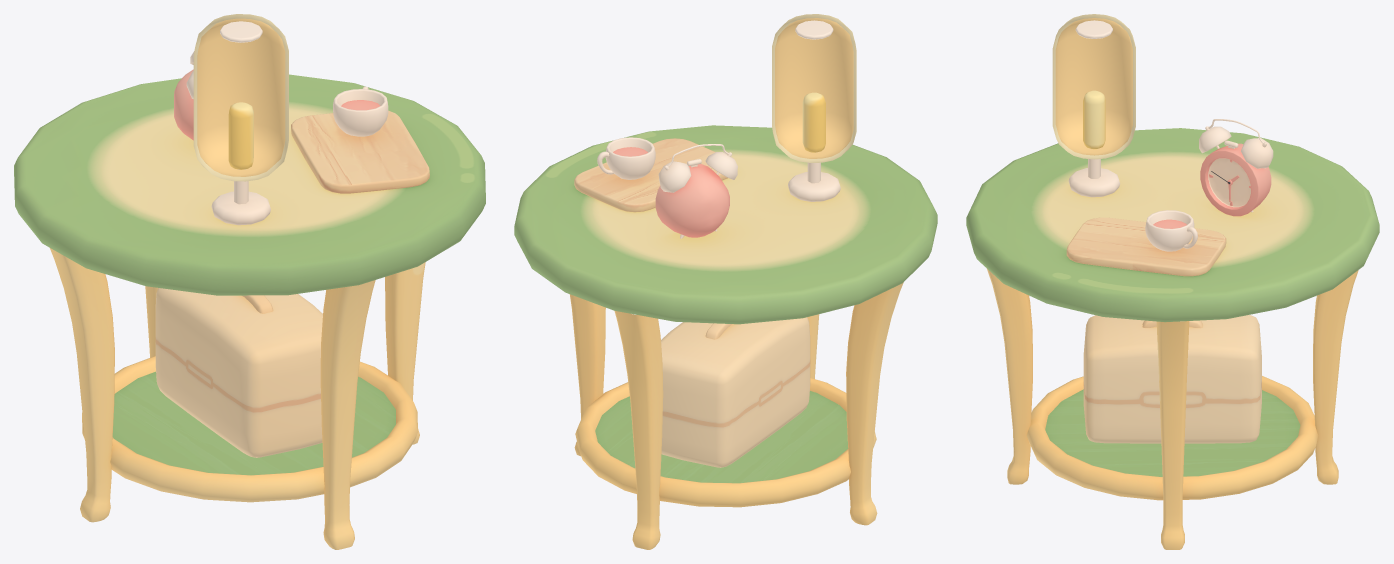
File: cute_stylized_bedside_table_-_low_poly.glb
The picture shows the model from 3 angles, left to right: view 1: azimuth 30°, elevation 25°; view 2: azimuth 150°, elevation 25°; view 3: azimuth 270°, elevation 25°; orthographic projection. The views are drawn at different scales.
Visible parts, largest first — view 1: Circle, Cube.003, Circle.002, Circle_Curve, Plane, Cube, Cube.001, Plane.003, Cylinder, Plane.002, Plane.004, Plane.001; view 2: Circle, Cube.003, Circle.002, Circle_Curve, Plane, Cube, Plane.004, Cube.001, Plane.003, Cylinder, Plane.005, Plane.002 (+1 smaller); view 3: Circle, Cube.003, Circle_Curve, Circle.002, Plane, Cube, Plane.004, Cube.001, Plane.003, Cylinder, Plane.005, Plane.002 (+1 smaller).
Boxes of the visible parts, left/top/right/bottom form: Circle: left=14, top=74, right=485, bottom=295; Cube.003: left=155, top=288, right=322, bottom=457; Circle.002: left=50, top=248, right=425, bottom=549; Circle_Curve: left=82, top=356, right=417, bottom=502; Plane: left=197, top=18, right=285, bottom=176; Cube: left=291, top=110, right=429, bottom=193; Cube.001: left=333, top=86, right=388, bottom=136; Plane.003: left=193, top=14, right=288, bottom=181; Cylinder: left=211, top=169, right=270, bottom=225; Plane.002: left=228, top=102, right=253, bottom=169; Plane.004: left=174, top=69, right=193, bottom=140; Plane.001: left=220, top=21, right=262, bottom=42; Circle: left=514, top=125, right=937, bottom=324; Cube.003: left=661, top=317, right=810, bottom=467; Circle.002: left=569, top=282, right=903, bottom=549; Circle_Curve: left=575, top=378, right=876, bottom=507; Plane: left=775, top=18, right=853, bottom=158; Cube: left=574, top=138, right=727, bottom=212; Plane.004: left=655, top=164, right=729, bottom=237; Cube.001: left=597, top=137, right=655, bottom=179; Plane.003: left=772, top=14, right=856, bottom=162; Cylinder: left=788, top=152, right=840, bottom=201; Plane.005: left=658, top=152, right=737, bottom=192; Plane.002: left=802, top=92, right=825, bottom=152; Circle: left=966, top=128, right=1379, bottom=322; Cube.003: left=1083, top=315, right=1261, bottom=443; Circle_Curve: left=1026, top=376, right=1318, bottom=500; Circle.002: left=986, top=268, right=1358, bottom=549; Plane: left=1055, top=18, right=1132, bottom=155; Cube: left=1066, top=217, right=1226, bottom=276; Plane.004: left=1200, top=143, right=1271, bottom=216; Cube.001: left=1145, top=210, right=1197, bottom=251; Plane.003: left=1052, top=14, right=1135, bottom=159; Cylinder: left=1068, top=159, right=1120, bottom=197; Plane.005: left=1199, top=126, right=1273, bottom=168; Plane.002: left=1083, top=90, right=1105, bottom=149.
Bounding box in the file's own units: 1.26 × 1.46 × 1.26.
1 material, 1 textured.
